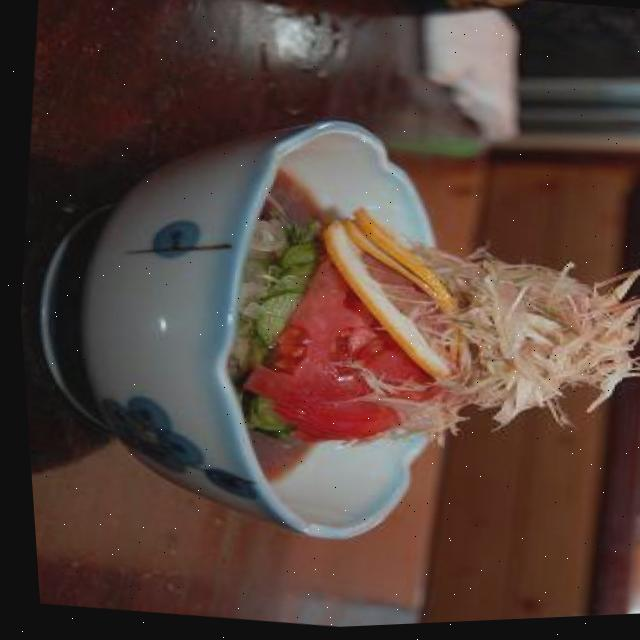熟制海鲜: (154, 157, 576, 502)
